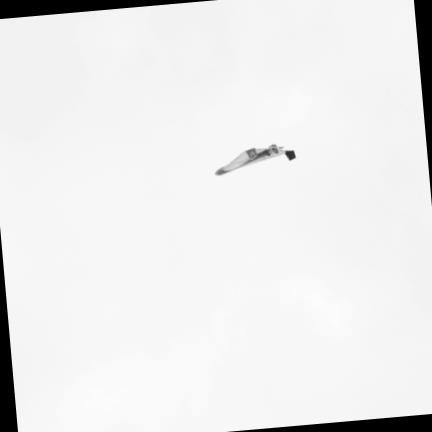Shahed: (216, 144, 294, 173)
